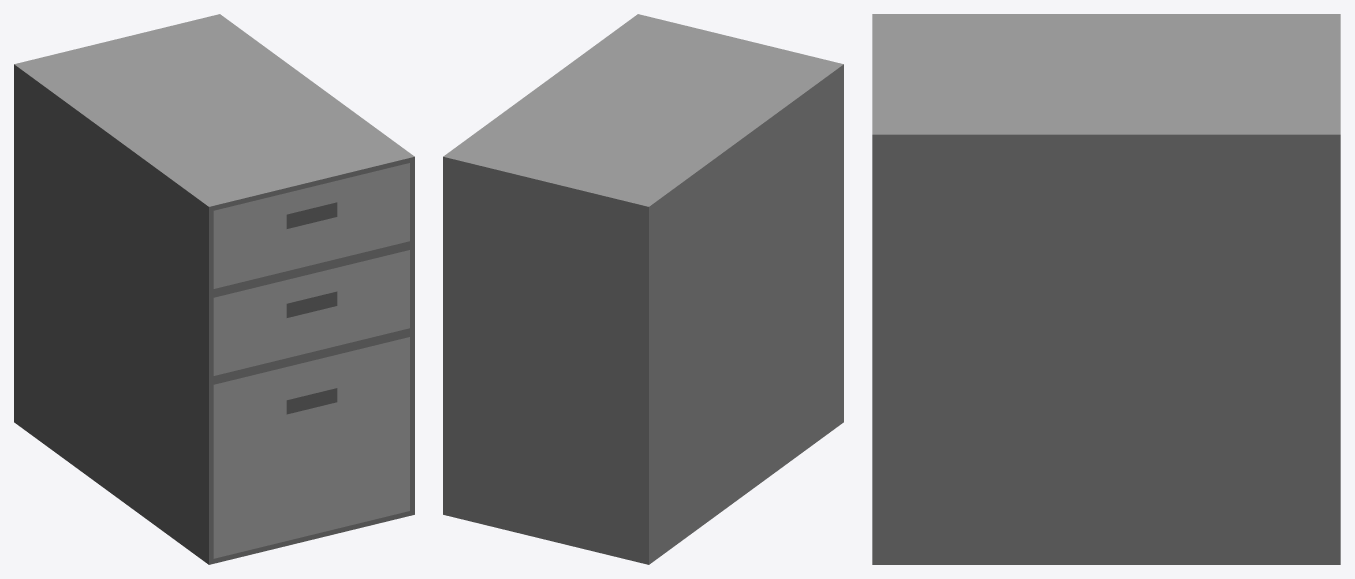
File: SO_FileCabinet_01.fbx
The picture shows the model from 3 angles, left to right: view 1: azimuth 30°, elevation 25°; view 2: azimuth 150°, elevation 25°; view 3: azimuth 270°, elevation 25°; orthographic projection. The views are drawn at different scales.
Visible parts, largest first — view 1: SO_FileCabinet_01; view 2: SO_FileCabinet_01; view 3: SO_FileCabinet_01.
Boxes of the visible parts, box(x1,y1,x2,y2) form: SO_FileCabinet_01: box(14, 14, 414, 564); SO_FileCabinet_01: box(443, 14, 843, 564); SO_FileCabinet_01: box(872, 14, 1340, 564).
Bounding box in the file's own units: 0.7573 × 1.26 × 1.24.
